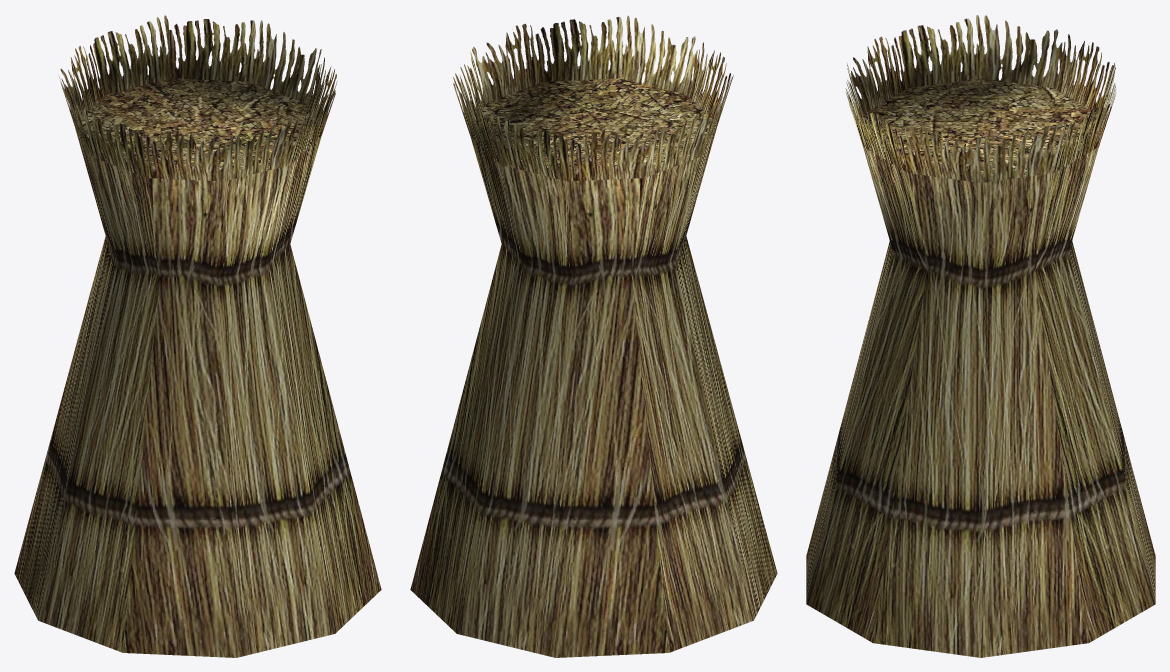
The model's file is NW_MISC_STRAW_02.glb.
The picture shows the model from 3 angles, left to right: view 1: azimuth 30°, elevation 25°; view 2: azimuth 150°, elevation 25°; view 3: azimuth 270°, elevation 25°; orthographic projection.
Parts seen in each view (by area): view 1: Mesh; view 2: Mesh; view 3: Mesh.
Part boxes in pixels (left/top/right/bottom): Mesh: left=14, top=15, right=381, bottom=657; Mesh: left=410, top=15, right=777, bottom=657; Mesh: left=806, top=15, right=1155, bottom=657.
Size of the model in its own units: 1.22 by 1.86 by 1.16.
2 materials, 2 textured.
